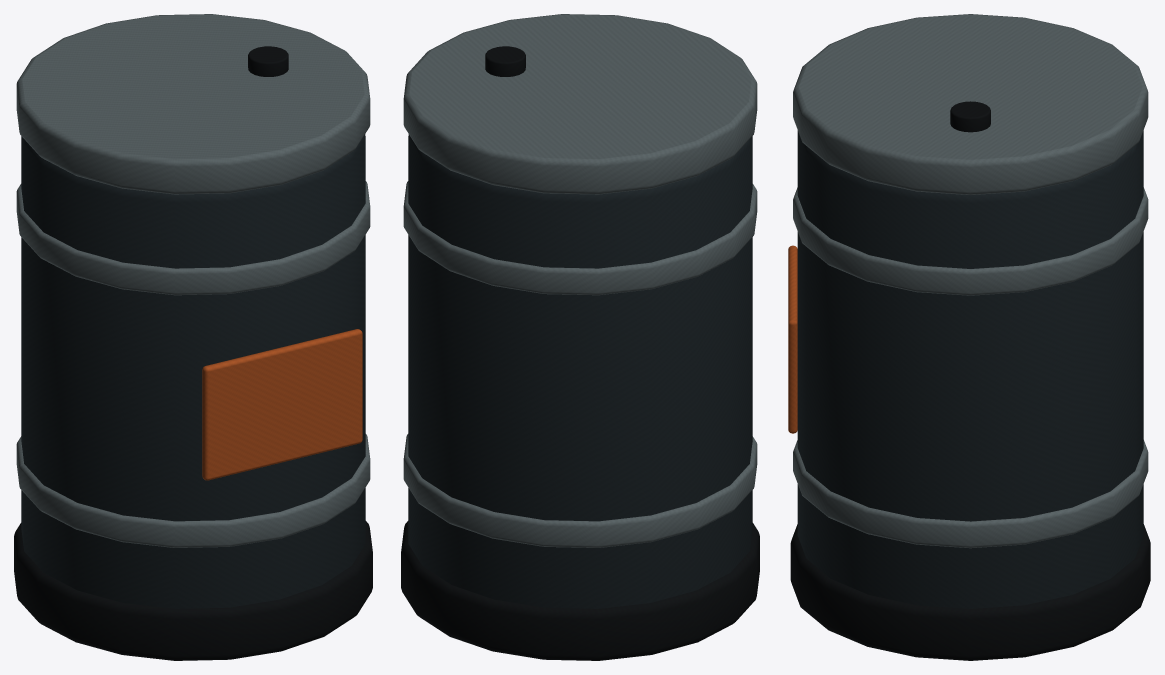
Rendered from StorageDrum.fbx.
3 renders of one model, left to right at view 1: azimuth 30°, elevation 25°; view 2: azimuth 150°, elevation 25°; view 3: azimuth 270°, elevation 25°, orthographic.
Parts seen in each view (by area): view 1: StorageDrum_Mesh; view 2: StorageDrum_Mesh; view 3: StorageDrum_Mesh.
Part boxes in pixels (x1=…): StorageDrum_Mesh: x1=14, y1=14, x2=372, y2=660; StorageDrum_Mesh: x1=401, y1=14, x2=759, y2=660; StorageDrum_Mesh: x1=788, y1=14, x2=1150, y2=660.
Size of the model in its own units: 75 by 118 by 75.5.
